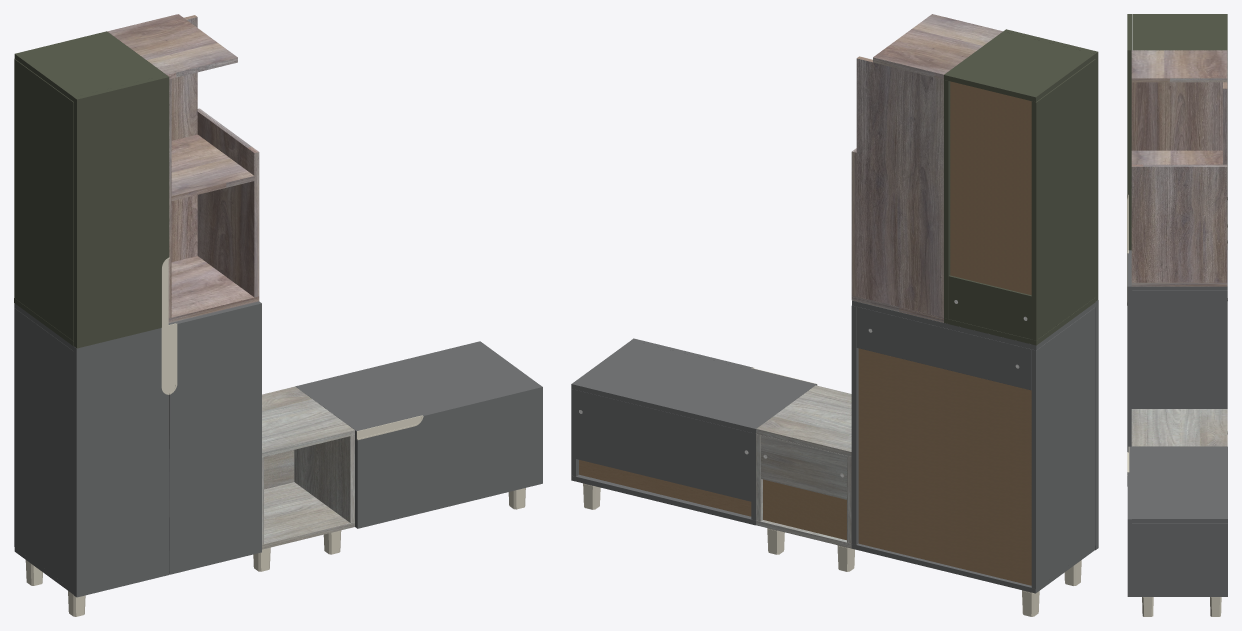
3 views of the same model, side by side, from view 1: azimuth 30°, elevation 25°; view 2: azimuth 150°, elevation 25°; view 3: azimuth 270°, elevation 25° (orthographic). The views are drawn at different scales.
Visible parts, largest first — view 1: group_0.467, Cube.003, Cube.007, group_0.152, group_0.145, group_0.147, group_0.146, Plane; view 2: group_0.144, Cube.003, group_0.467, Cube.007, group_0.147, group_0.151, group_0.145, Plane.001, group_0.149, group_0.154, group_0.146; view 3: Cube.007, group_0.147, group_0.467, Cube.003, group_0.145, group_0.152, group_0.154.
Part boxes in pixels (<box>): group_0.467: <box>14,301,261,597</box>; Cube.003: <box>14,31,169,348</box>; Cube.007: <box>107,14,259,323</box>; group_0.152: <box>355,385,542,528</box>; group_0.145: <box>262,386,354,549</box>; group_0.147: <box>295,341,539,429</box>; group_0.146: <box>25,323,177,616</box>; Plane: <box>264,450,294,489</box>; group_0.144: <box>858,348,1031,585</box>; Cube.003: <box>944,29,1098,345</box>; group_0.467: <box>851,300,1098,593</box>; Cube.007: <box>851,14,1002,322</box>; group_0.147: <box>571,340,814,525</box>; group_0.151: <box>950,81,1031,295</box>; group_0.145: <box>756,385,851,548</box>; Plane.001: <box>763,474,846,540</box>; group_0.149: <box>579,460,751,516</box>; group_0.154: <box>583,483,854,571</box>; group_0.146: <box>1022,560,1081,616</box>; Cube.007: <box>1131,50,1227,286</box>; group_0.147: <box>1132,446,1227,596</box>; group_0.467: <box>1127,250,1227,486</box>; Cube.003: <box>1127,14,1227,250</box>; group_0.145: <box>1131,409,1227,446</box>; group_0.152: <box>1127,446,1131,596</box>; group_0.154: <box>1142,597,1221,616</box>.
Size of the model in its own units: 1.76 by 1.9 by 0.4118.
18 materials, 6 textured.
